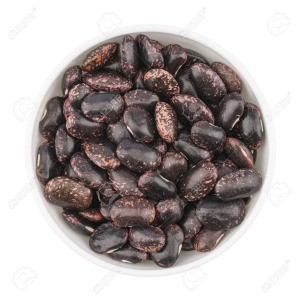beans_brain food: (89, 105, 238, 228)
